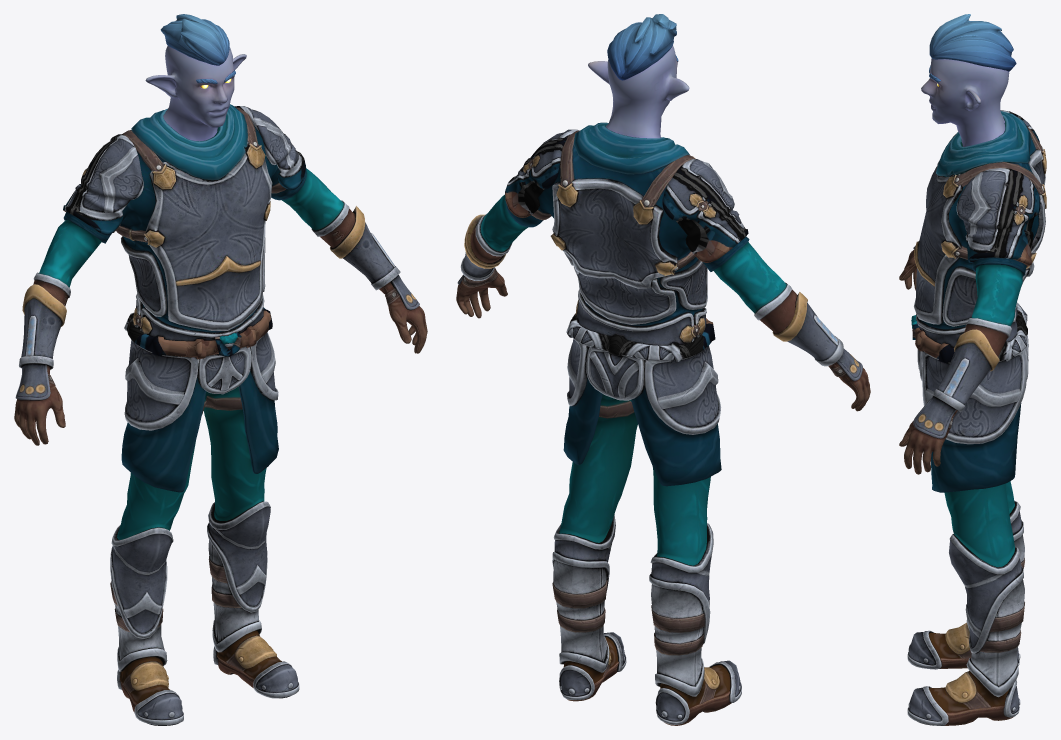
The model's file is archerfinal.glb.
The picture shows the model from 3 angles, left to right: view 1: azimuth 30°, elevation 25°; view 2: azimuth 150°, elevation 25°; view 3: azimuth 270°, elevation 25°; orthographic projection.
Visible parts, largest first — view 1: Elf_stylized.001_primitive0, Elf_stylized.001_primitive2, Elf_stylized.001_primitive1; view 2: Elf_stylized.001_primitive0, Elf_stylized.001_primitive2, Elf_stylized.001_primitive1; view 3: Elf_stylized.001_primitive0, Elf_stylized.001_primitive2, Elf_stylized.001_primitive1.
Part boxes in pixels (left/top/right/bottom): Elf_stylized.001_primitive0: left=14, top=106, right=427, bottom=492; Elf_stylized.001_primitive2: left=110, top=104, right=299, bottom=725; Elf_stylized.001_primitive1: left=145, top=14, right=246, bottom=141; Elf_stylized.001_primitive0: left=456, top=129, right=870, bottom=486; Elf_stylized.001_primitive2: left=552, top=122, right=741, bottom=725; Elf_stylized.001_primitive1: left=588, top=14, right=689, bottom=138; Elf_stylized.001_primitive0: left=899, top=110, right=1046, bottom=492; Elf_stylized.001_primitive2: left=907, top=111, right=1030, bottom=725; Elf_stylized.001_primitive1: left=921, top=14, right=1016, bottom=146.
Size of the model in its own units: 1.15 by 1.84 by 0.3671.
3 materials, 3 textured.
